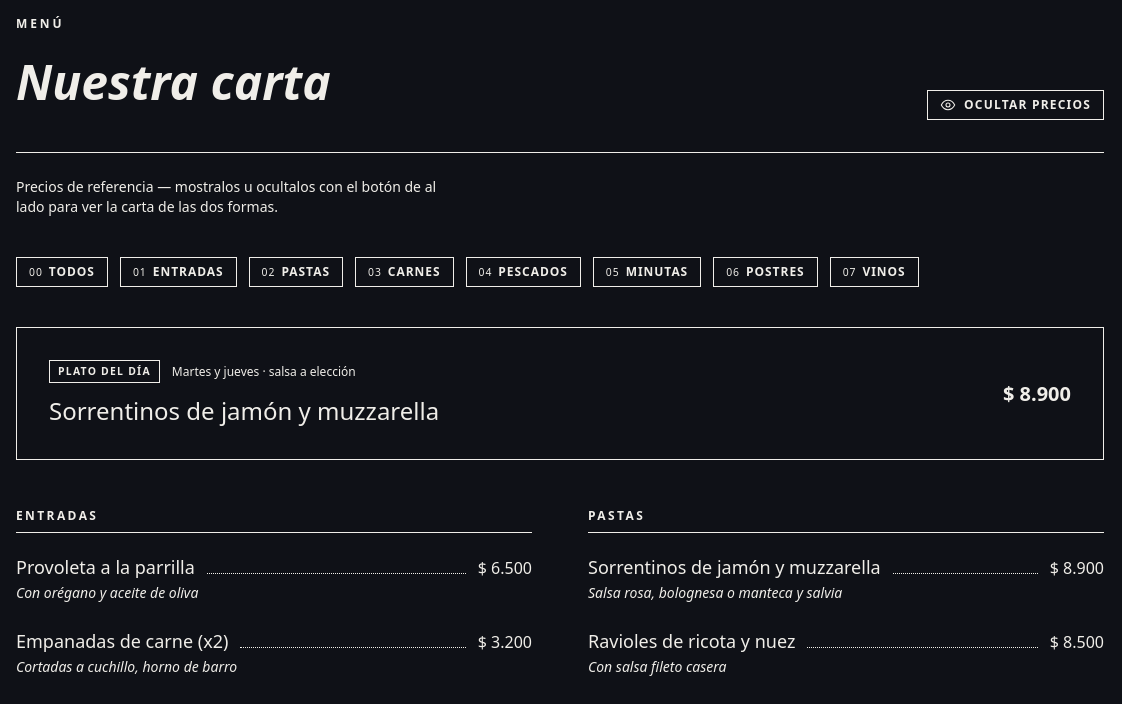
Scenario: Menu (Gastronomía) › oculta los precios al tocar el toggle, y los vuelve a mostrar al tocarlo de nuevo
Click the button "Ocultar precios" at (1016, 105), box [927,90,1104,120]
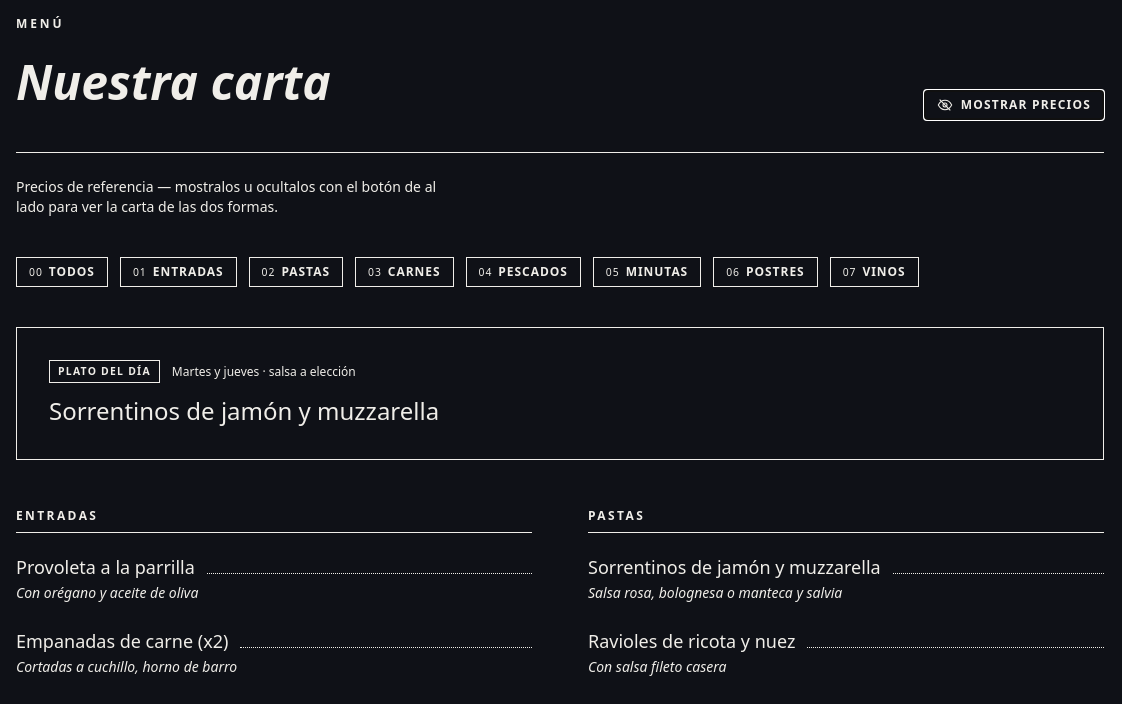
Expected: the text "$ 6.500" is gone
Expected: the button "Mostrar precios" is shown
Click the button "Mostrar precios" at (1014, 105), box [924,90,1104,120]
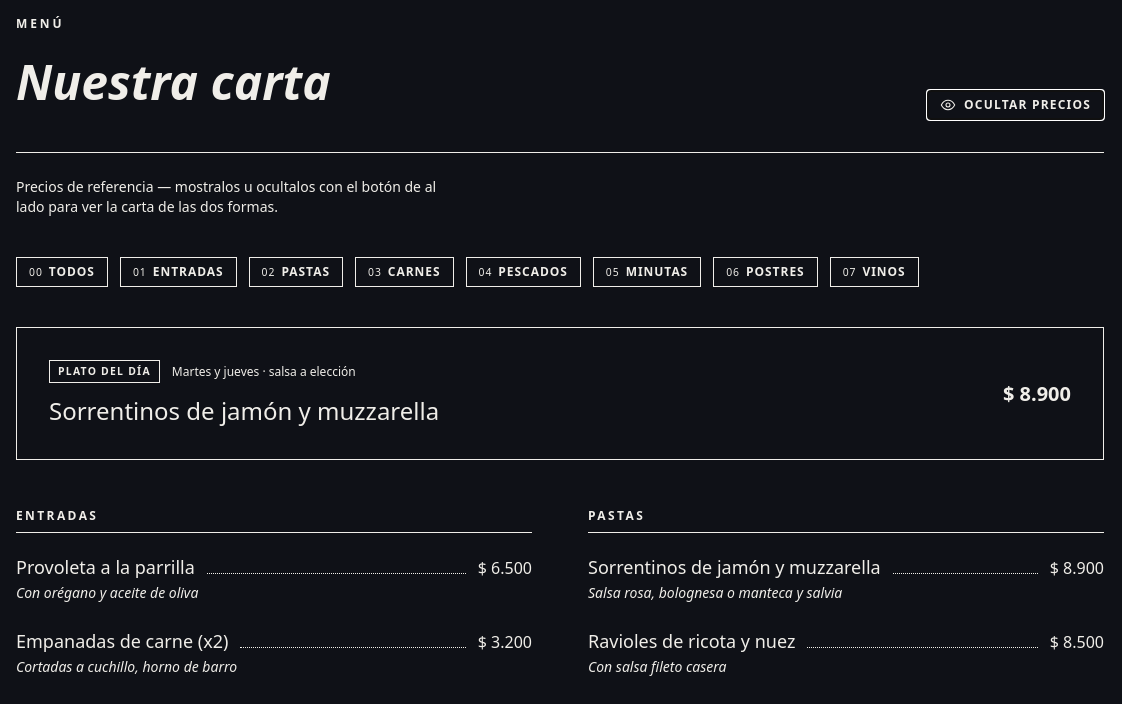
Expected: the text "$ 6.500" is shown, [478,556,532,580]
